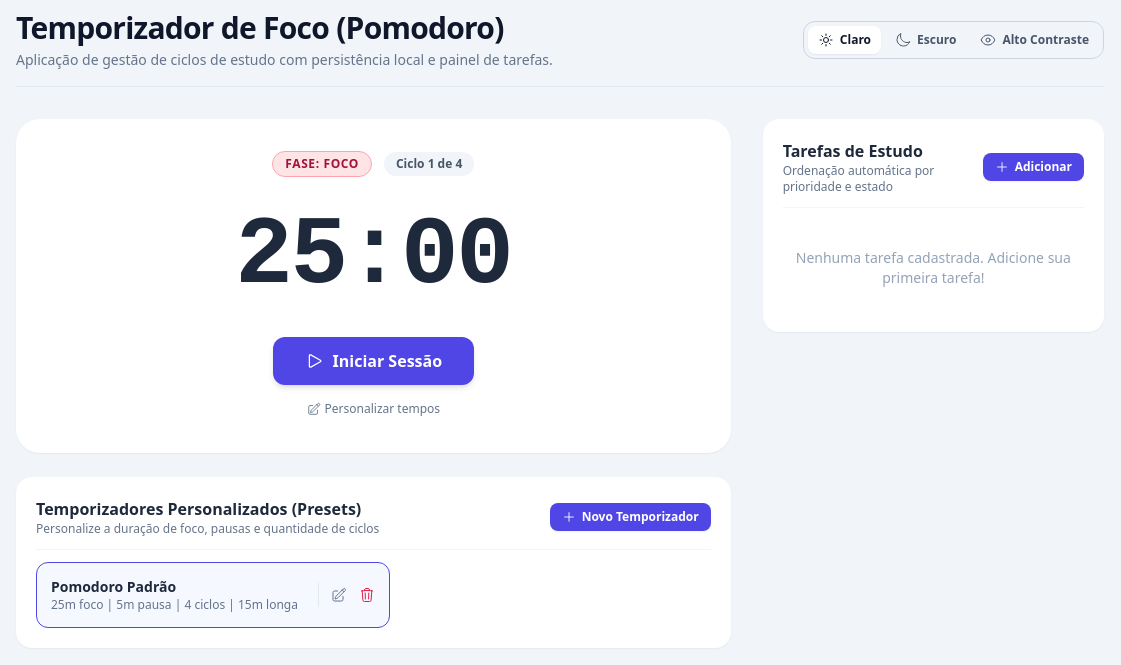
Test case: App Integrado (Pomodoro + Presets + Tarefas) › deve iniciar sessao de foco e atualizar status do preset em uso (RN-01)
Click the button "Iniciar Sessão" at point(373, 361), box [272, 337, 474, 385]
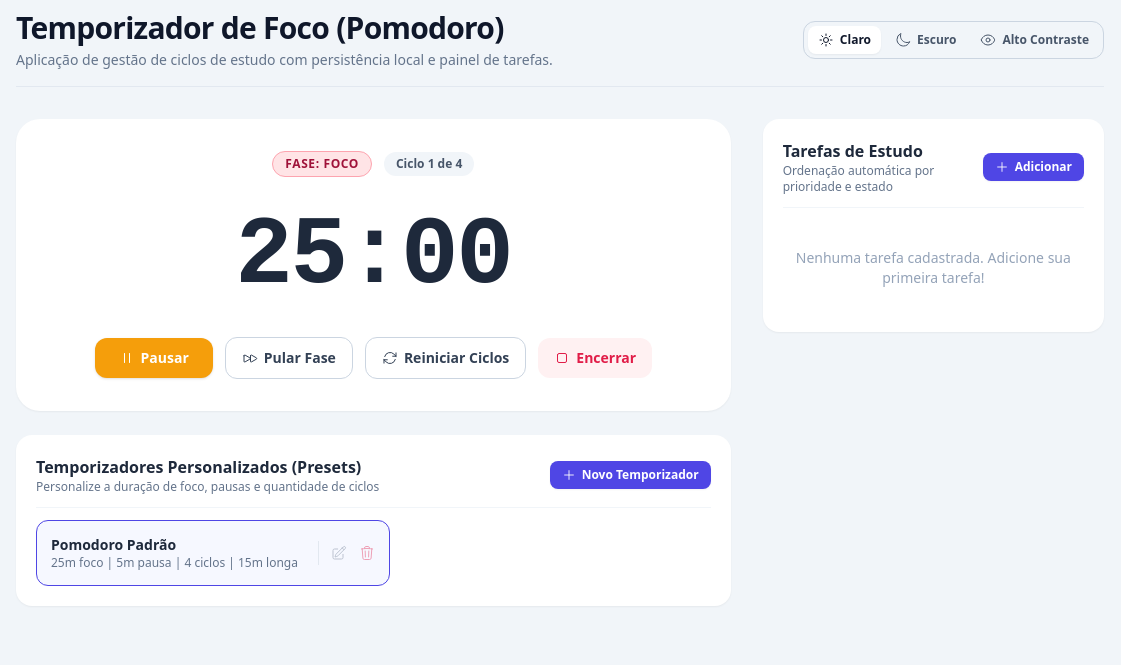
Expected: the button with test id "editar-preset-padrao-pomodoro" is disabled, [327, 541, 351, 565]
Expected: the button "Pausar" is shown, [95, 338, 213, 378]
